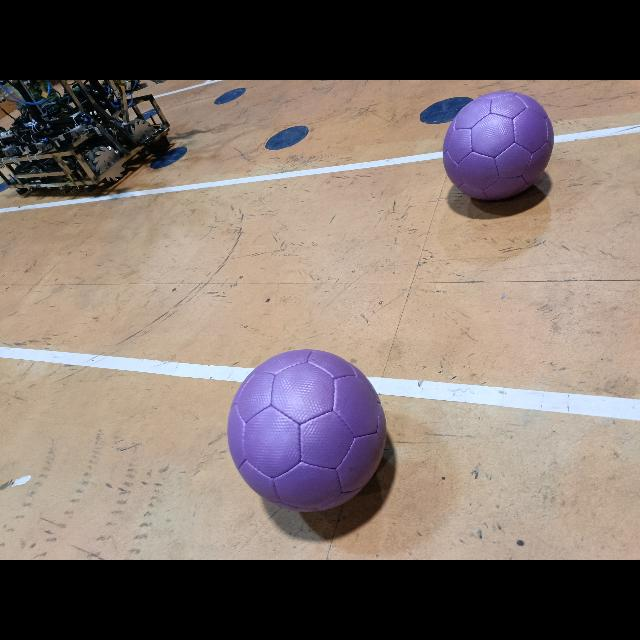P: (228, 349, 386, 511), (442, 91, 554, 199)
